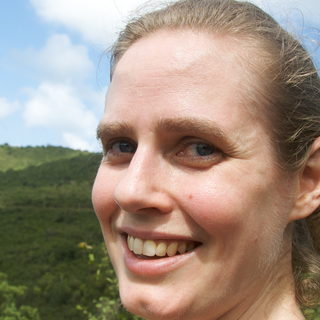eye: (176, 138, 229, 164), (100, 133, 139, 161)
